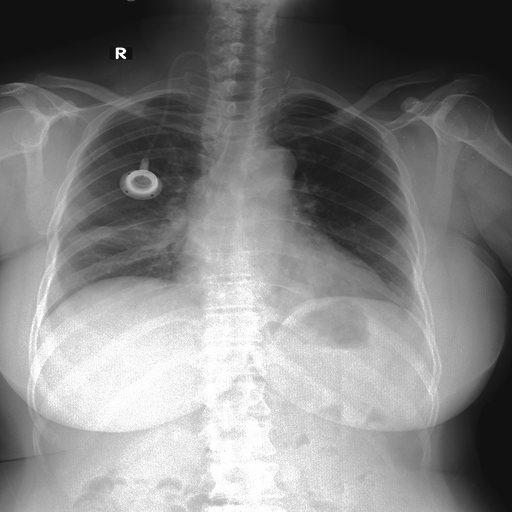Consolidation: (247, 147, 298, 179)
Nodule/Mass: (172, 259, 396, 311)
Pleural thickening: (88, 223, 170, 251)
Pneumothorax: (72, 218, 170, 250)
